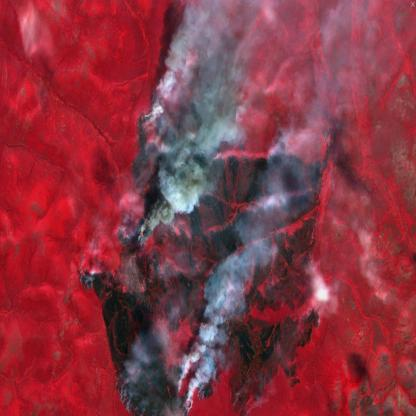fire: (77, 104, 279, 416)
